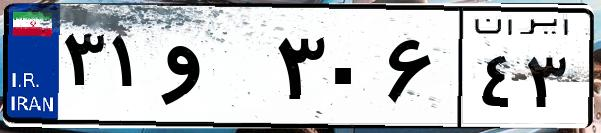0: (330, 28, 385, 110)
1: (110, 28, 158, 98)
3: (270, 28, 330, 110), (57, 26, 110, 100), (525, 38, 570, 115)
4: (475, 38, 525, 113)
6: (385, 28, 445, 110)
و: (158, 20, 270, 120)
